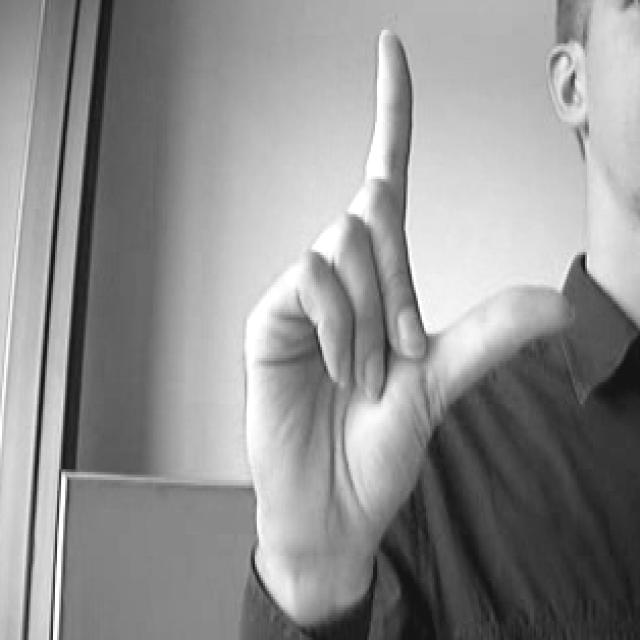L: (185, 21, 588, 566)
